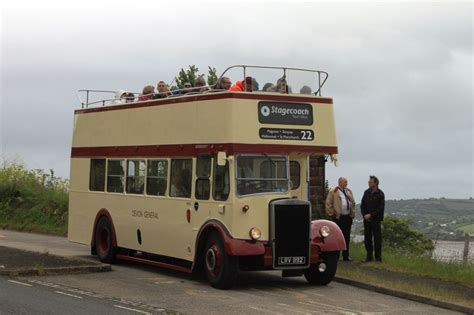bus: (72, 91, 344, 288)
person: (328, 179, 354, 261), (364, 178, 384, 262)
